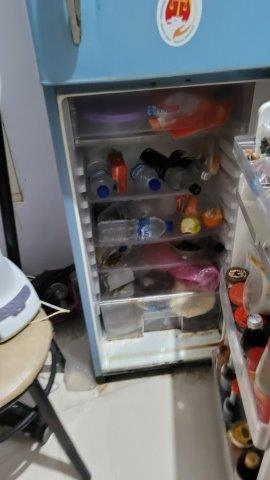botolkaca: (135, 143, 200, 199)
